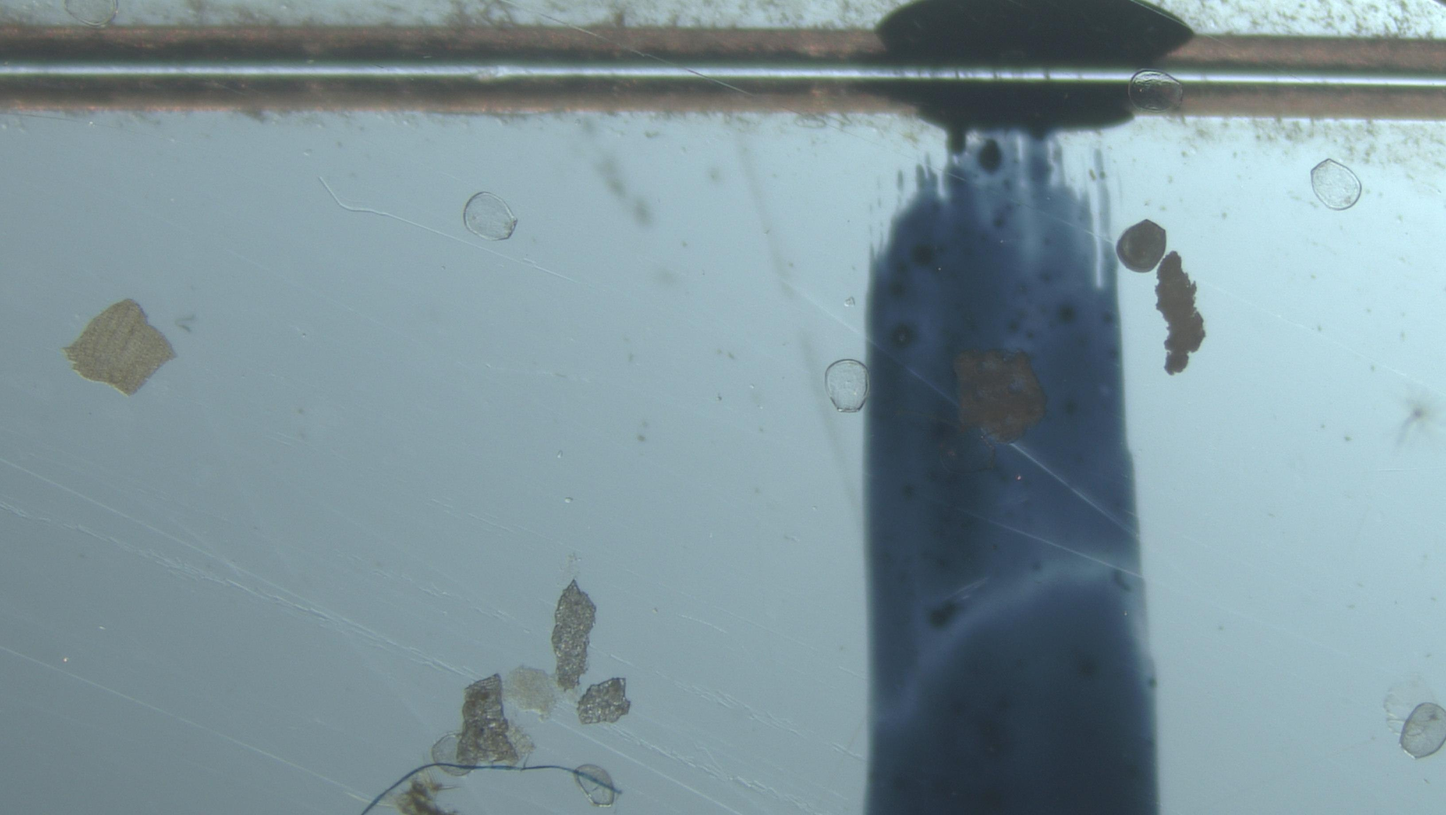dead: (1156, 268, 1201, 374), (431, 735, 500, 776), (463, 193, 517, 241), (1400, 703, 1446, 759), (1116, 221, 1165, 273), (1312, 160, 1362, 210), (1129, 71, 1182, 114), (827, 360, 867, 412), (570, 765, 616, 806)
